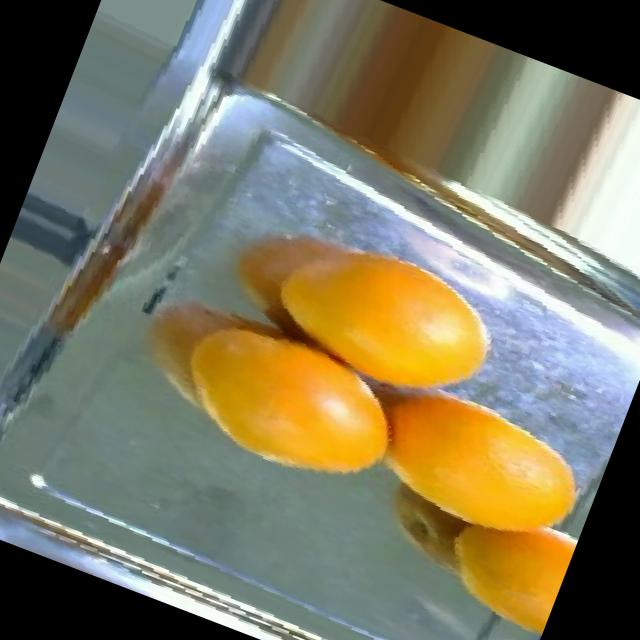Fruit: (377, 372, 616, 577), (299, 231, 525, 428)
